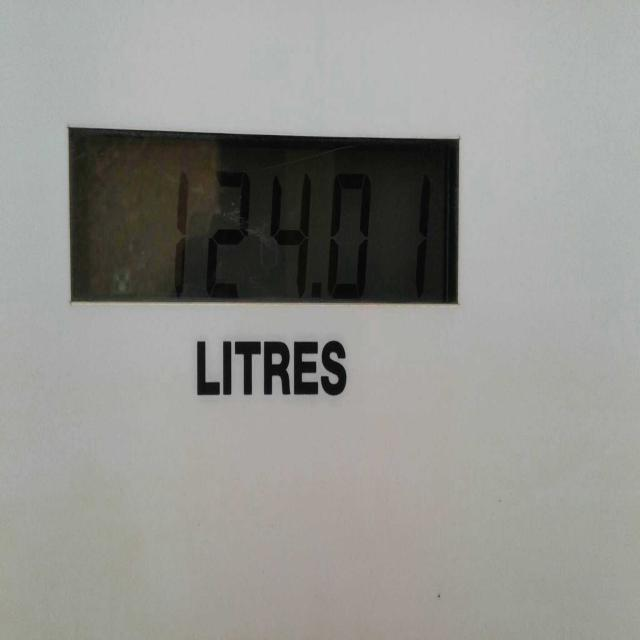.: (310, 271, 323, 310)
0: (319, 165, 378, 308)
1: (396, 175, 443, 304), (165, 160, 201, 301)
2: (203, 160, 258, 313)
4: (264, 166, 318, 303)
